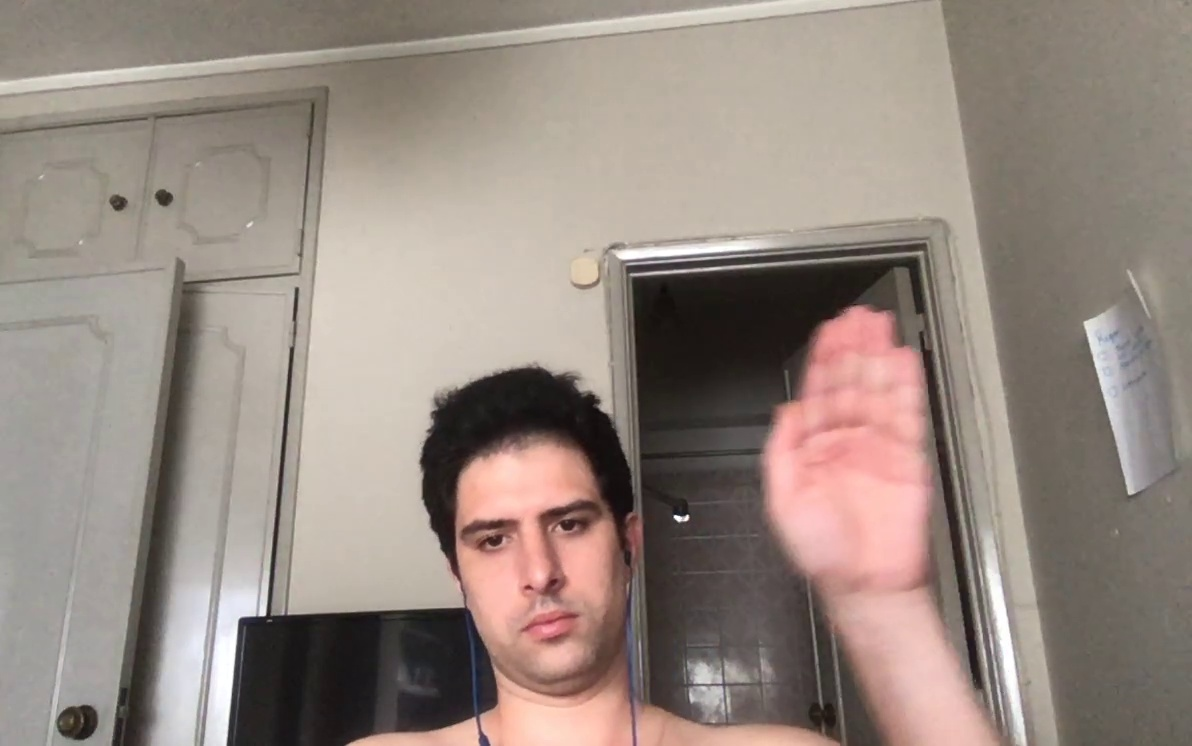b: (740, 299, 958, 601)
